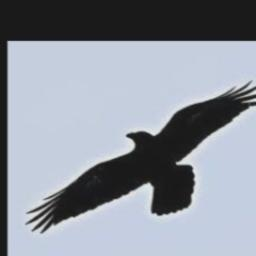Crow: (25, 80, 256, 235)
